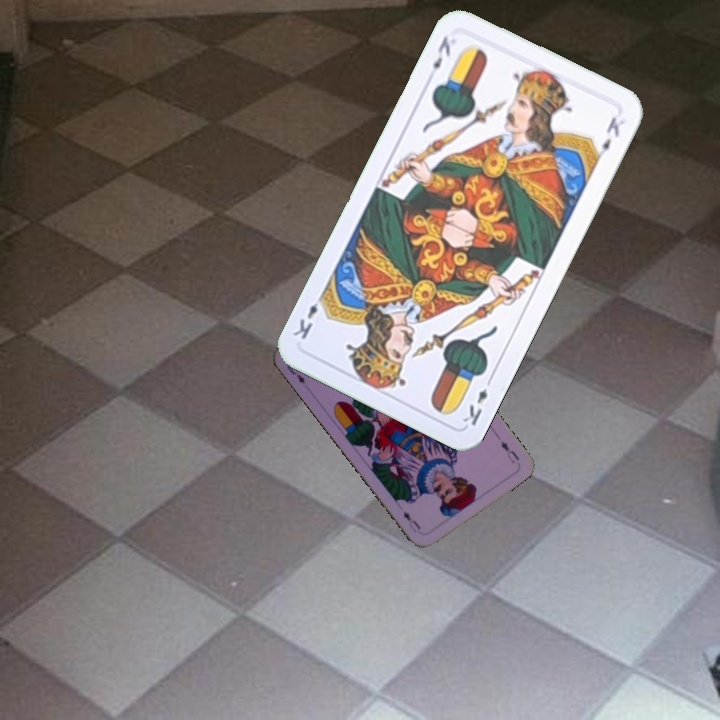EK: (458, 372, 496, 428), (428, 32, 453, 72)
EU: (497, 436, 521, 466), (282, 361, 308, 387)
